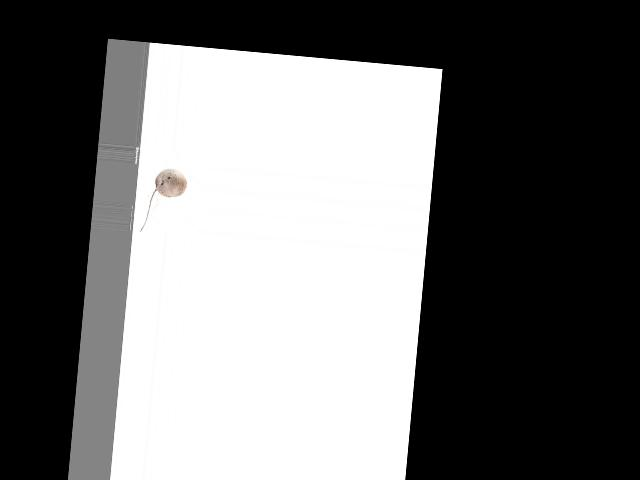beet: (139, 167, 187, 236)
